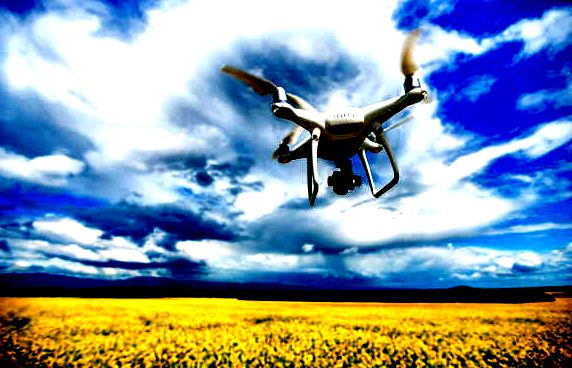Drone: (217, 28, 434, 212)
